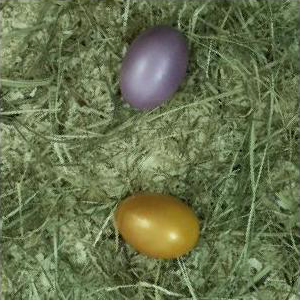egg: (119, 27, 191, 109), (116, 192, 201, 260)
